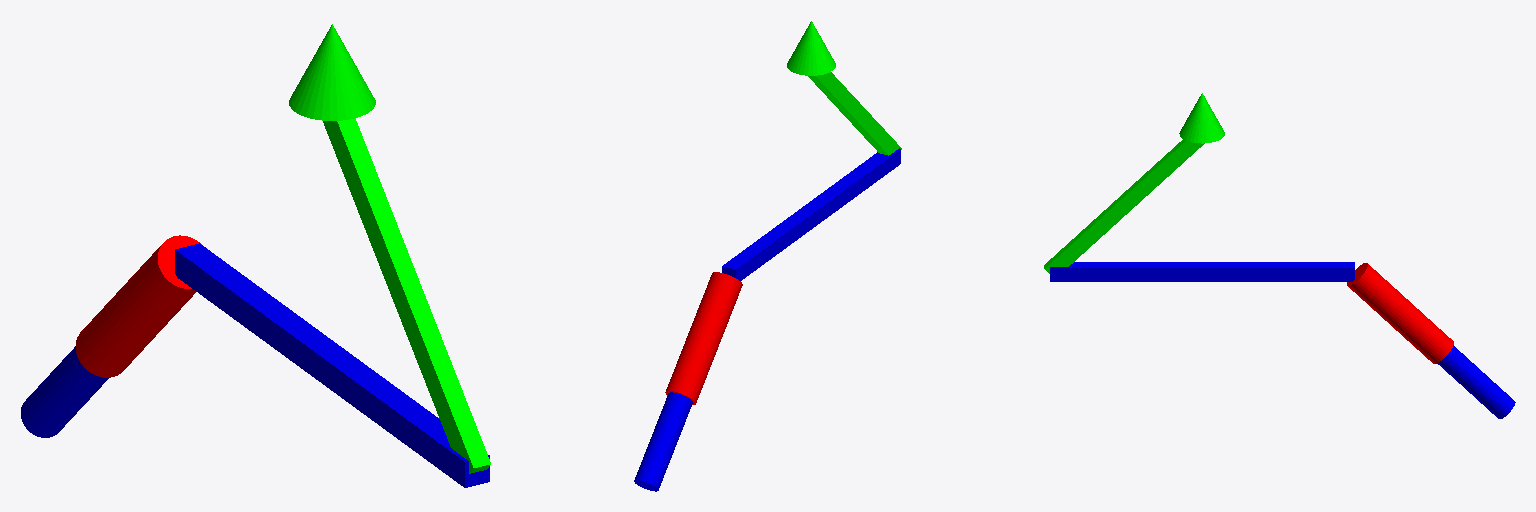
robot.urdf — example_mechanism:
<robot name="example_mechanism" version="1.0">
  <sensor name="camera_in_z">
    <origin rpy="0.0 0.0 0.0" xyz="0.0 0.0 0.5"/>
    <parent link="end_effector"/>
    <camera>
      <image>
        <width>640</width>
        <height>480</height>
        <hfov>90</hfov>
      </image>
    </camera>
  </sensor>
  <joint name="end_effector_joint" type="revolute">
    <limit lower="-0.25" upper="0.25" effort="400.0" velocity="3.141"/>
    <origin rpy="0.0 0.0 0.0" xyz="0.0 0.5 0.5"/>
    <parent link="passive_a"/>
    <child link="end_effector"/>
    <axis xyz="1.0 0.0 0.0"/>
  </joint>
  <joint name="passive_a_joint" type="revolute">
    <limit lower="-3.141" upper="3.141" effort="400.0" velocity="3.141"/>
    <origin rpy="0.0 0.0 0.0" xyz="0.0 0.0 0.0"/>
    <parent link="root"/>
    <child link="passive_a"/>
    <axis xyz="1.0 0.0 0.0"/>
  </joint>
  <joint name="passive_b_joint" type="revolute">
    <limit lower="3.141" upper="3.141" effort="400.0" velocity="3.141"/>
    <origin rpy="0.0 0.0 0.0" xyz="0.0 1.0 0.0"/>
    <parent link="root"/>
    <child link="passive_b"/>
    <axis xyz="1.0 0.0 0.0"/>
  </joint>
  <joint name="prismatic_joint" type="prismatic">
    <limit lower="-0.1" upper="0.3" effort="400.0" velocity="3.141"/>
    <origin rpy="0.785398156308485 0.0 0.0" xyz="0.0 -0.5 0.5"/>
    <parent link="passive_b"/>
    <child link="prismatic"/>
    <axis xyz="0.0 0.0 1.0"/>
  </joint>
  <link name="end_effector">
    <collision name="end_effector_collision">
      <origin rpy="0.0 0.0 0.0" xyz="0.0 0.0 0.0"/>
      <geometry>
        <mesh filename="../meshes/stl/Cone.stl" scale="1.0 1.0 1.0"/>
      </geometry>
    </collision>
    <visual name="end_effector_visual">
      <origin rpy="0.0 0.0 0.0" xyz="0.0 0.0 0.0"/>
      <material name="green"/>
      <geometry>
        <mesh filename="../meshes/stl/Cone.stl" scale="1.0 1.0 1.0"/>
      </geometry>
    </visual>
  </link>
  <link name="passive_a">
    <collision name="passive_a_collision">
      <origin rpy="-0.785398156308485 0.0 0.0" xyz="0.0 0.25 0.25"/>
      <geometry>
        <box size="0.03535 0.05 0.707"/>
      </geometry>
    </collision>
    <visual name="passive_a_visual">
      <origin rpy="-0.785398156308485 0.0 0.0" xyz="0.0 0.25 0.25"/>
      <material name="green"/>
      <geometry>
        <box size="0.03535 0.05 0.707"/>
      </geometry>
    </visual>
  </link>
  <link name="passive_b">
    <collision name="passive_b_collision">
      <origin rpy="0.785398156308485 0.0 0.0" xyz="0.0 -0.15 0.15"/>
      <geometry>
        <cylinder radius="0.05" length="0.4"/>
      </geometry>
    </collision>
    <visual name="passive_b_visual">
      <origin rpy="0.785398156308485 0.0 0.0" xyz="0.0 -0.15 0.15"/>
      <material name="red"/>
      <geometry>
        <cylinder radius="0.05" length="0.4"/>
      </geometry>
    </visual>
  </link>
  <link name="prismatic">
    <collision name="prismatic_collision">
      <origin rpy="0.0 0.0 0.0" xyz="0.0 0.0 -0.307"/>
      <geometry>
        <cylinder radius="0.04" length="0.614"/>
      </geometry>
    </collision>
    <visual name="prismatic_visual">
      <origin rpy="0.0 0.0 0.0" xyz="0.0 0.0 -0.307"/>
      <material name="blue"/>
      <geometry>
        <cylinder radius="0.04" length="0.614"/>
      </geometry>
    </visual>
  </link>
  <link name="root">
    <collision name="root_collision">
      <origin rpy="-1.5707961320877317 0.0 0.0" xyz="0.0 0.5 0.0"/>
      <geometry>
        <box size="0.05 0.05 1.0"/>
      </geometry>
    </collision>
    <visual name="root_visual">
      <origin rpy="-1.5707961320877317 0.0 0.0" xyz="0.0 0.5 0.0"/>
      <material name="blue"/>
      <geometry>
        <box size="0.05 0.05 1.0"/>
      </geometry>
    </visual>
  </link>
  <material name="blue">
    <color rgba="0.0 0.0 1.0 1.0"/>
  </material>
  <material name="green">
    <color rgba="0.0 1.0 0.0 1.0"/>
  </material>
  <material name="red">
    <color rgba="1.0 0.0 0.0 1.0"/>
  </material>
</robot>

--- What the picture shows (computed from the rendered views, not written in the file) ---
3 views of the same robot in one strip: view 1: azimuth 30°, elevation 25°; view 2: azimuth 150°, elevation 25°; view 3: azimuth 270°, elevation 25° (orthographic).
Model example_mechanism with 5 links and 4 joints (3 revolute, 1 prismatic), rooted at root, posed joints at zero except 1 at the middle of their limits (passive_b_joint = 3.14).
Links seen in each view (by area): view 1: root, passive_a, passive_b, end_effector, prismatic; view 2: root, passive_b, prismatic, passive_a, end_effector; view 3: root, passive_b, passive_a, prismatic, end_effector.
Boxes of the visible links, bbox=[...] form: root: bbox=[175, 243, 489, 487]; passive_a: bbox=[323, 118, 490, 473]; passive_b: bbox=[76, 235, 201, 377]; end_effector: bbox=[289, 24, 375, 120]; prismatic: bbox=[21, 346, 108, 437]; root: bbox=[722, 148, 900, 280]; passive_b: bbox=[665, 272, 742, 404]; prismatic: bbox=[634, 392, 692, 491]; passive_a: bbox=[808, 72, 901, 155]; end_effector: bbox=[787, 21, 835, 75]; root: bbox=[1050, 262, 1354, 281]; passive_b: bbox=[1347, 263, 1453, 363]; passive_a: bbox=[1044, 139, 1204, 273]; prismatic: bbox=[1437, 345, 1515, 418]; end_effector: bbox=[1179, 93, 1224, 143].
Bounding box of the posed robot: 0.15 × 1.55 × 1.18 m (x, y, z).
1 mesh visuals loaded from 1 distinct referenced files (1 binary STL).